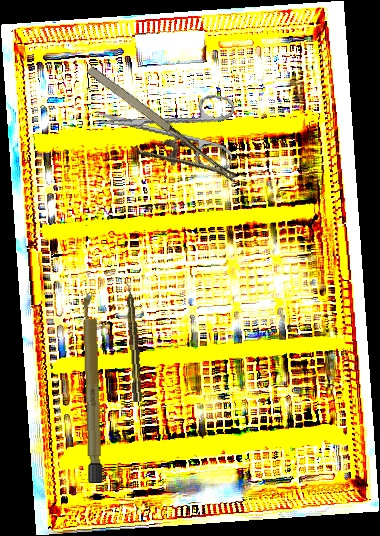Handpiece: (123, 282, 144, 403)
Iris Scissors: (90, 77, 241, 173)
Needle Holder: (67, 61, 238, 212)
Scalpel Handle: (81, 291, 104, 484)
